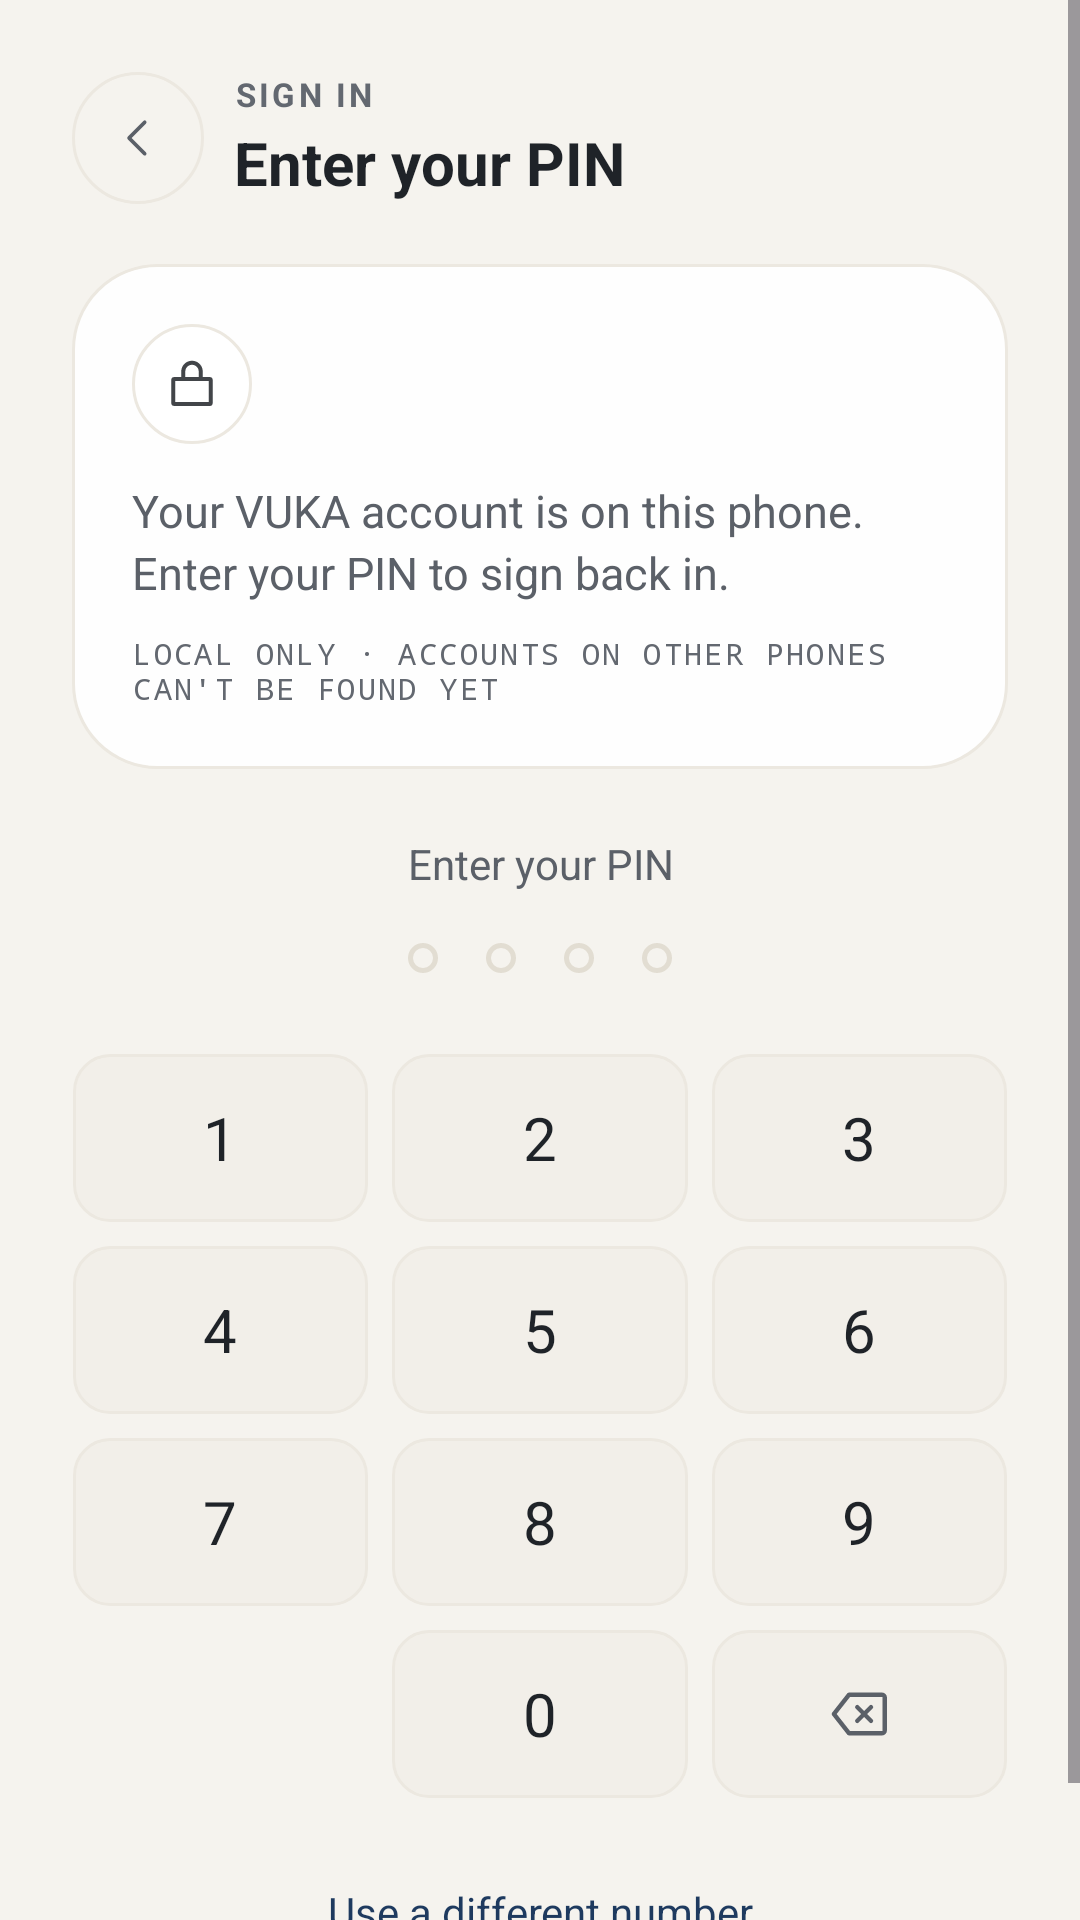

Named icons in this screenshot (1080 × 1920) and their bounding boxes, bbox=[x1, y1, x2, y2]:
Back: bbox=[127, 120, 147, 156]
Delete: bbox=[831, 1692, 887, 1736]
lock: bbox=[171, 360, 213, 406]
